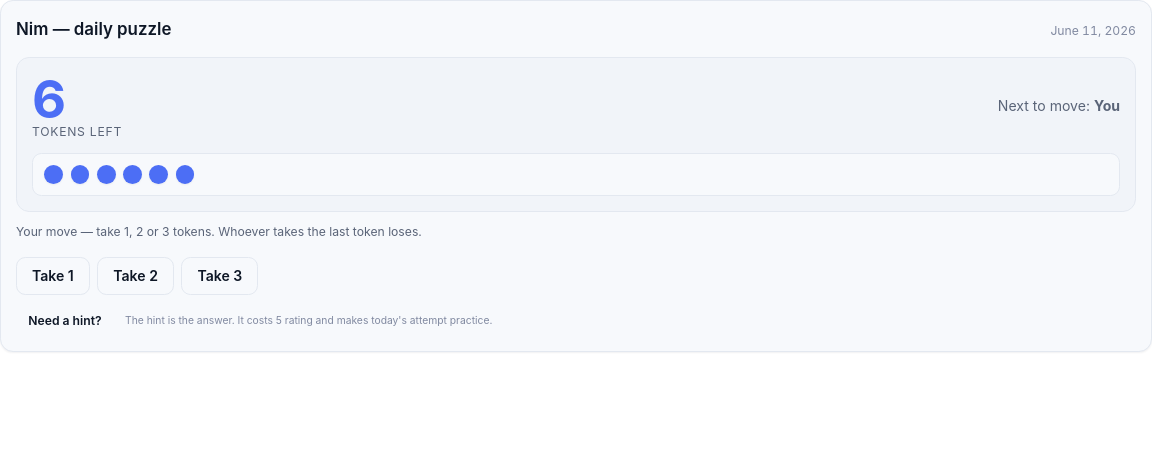
DailyPuzzleCard: hints (server round-trip) › requests the hint with the pinned date and reveals the move as practice-only
This screenshot has width=1152, height=453.
Click the button with test id "puzzle-hint": [65, 321] box [16,306,114,336]
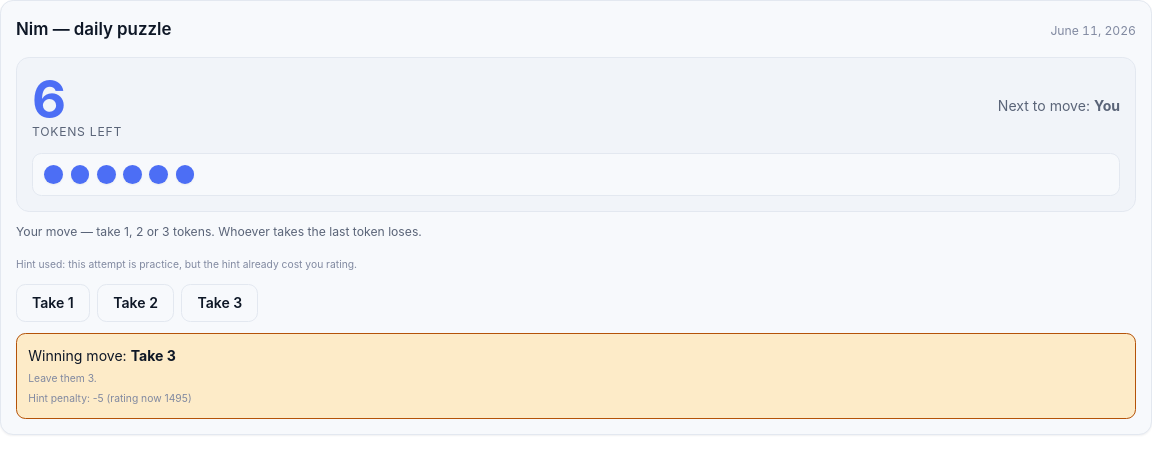
Expected: the element with test id "puzzle-hint-reveal" shows "Take 3", [131,348,176,364]
Expected: the element with test id "puzzle-hint-reveal" shows "Leave them 3.", [28,372,97,384]
Expected: the text with test id "puzzle-hint-penalty" shows "-5", [93,392,104,404]
